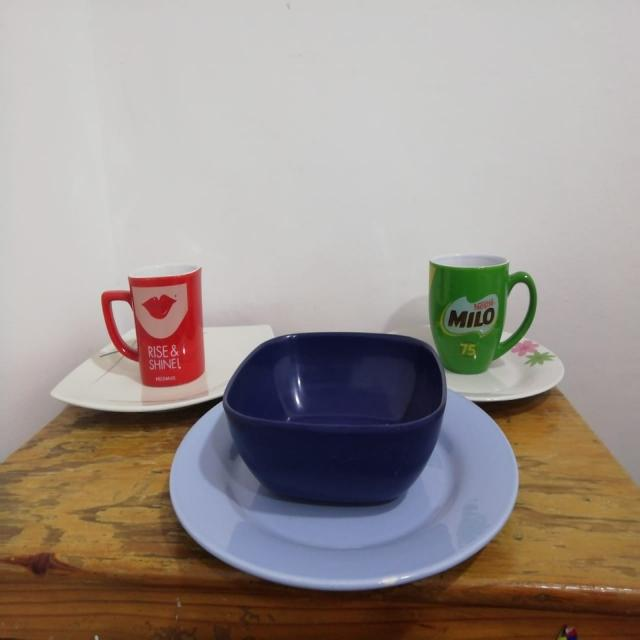non-organic waste: (148, 352, 501, 605), (46, 285, 296, 449), (380, 252, 572, 412)
